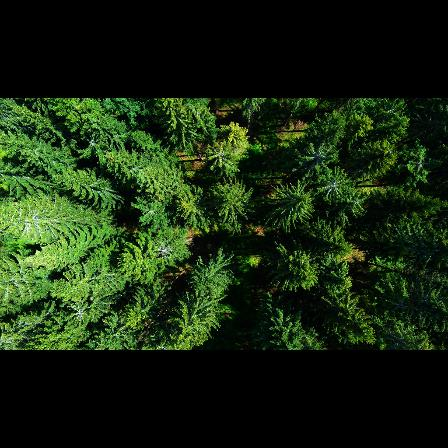Sick: (299, 139, 341, 175), (145, 231, 185, 268), (312, 168, 355, 202), (64, 298, 97, 328)
